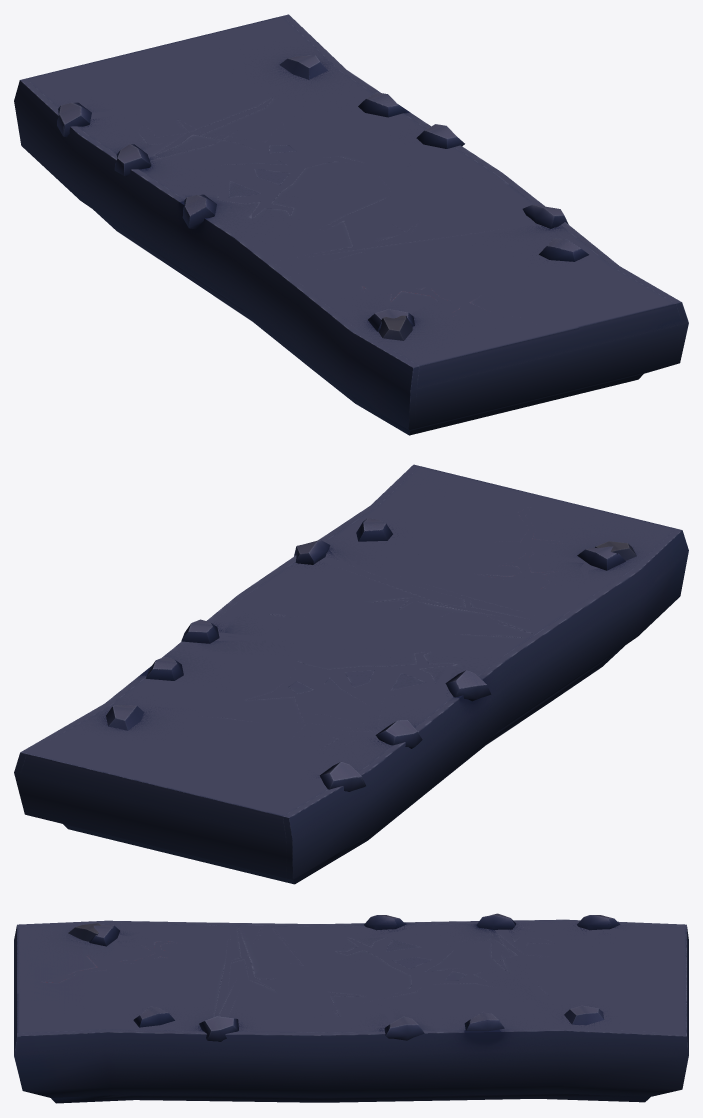
Rendered from Fix_Magma_Stage_Floor.fbx.
3 views of the same model, one above another, from view 1: azimuth 30°, elevation 25°; view 2: azimuth 150°, elevation 25°; view 3: azimuth 270°, elevation 25° (orthographic). The views are drawn at different scales.
Visible parts, largest first — view 1: Magma_Stage_Road_1, Magma_Stage_Road_3, Magma_Stage_Road_2, Magma_Stage_Road_5, Magma_Stage_Road_4; view 2: Magma_Stage_Road_3, Magma_Stage_Road_1, Magma_Stage_Road_2, Magma_Stage_Road_5, Magma_Stage_Road_4; view 3: Magma_Stage_Road_3, Magma_Stage_Road_1, Magma_Stage_Road_2, Magma_Stage_Road_5, Magma_Stage_Road_4.
Part boxes in pixels (<box>): Magma_Stage_Road_1: <box>26,16,682,431</box>; Magma_Stage_Road_3: <box>14,14,688,435</box>; Magma_Stage_Road_2: <box>29,16,674,365</box>; Magma_Stage_Road_5: <box>90,75,556,280</box>; Magma_Stage_Road_4: <box>28,16,612,326</box>; Magma_Stage_Road_3: <box>14,464,688,884</box>; Magma_Stage_Road_1: <box>20,466,675,882</box>; Magma_Stage_Road_2: <box>35,466,673,816</box>; Magma_Stage_Road_5: <box>111,549,555,766</box>; Magma_Stage_Road_4: <box>79,509,619,815</box>; Magma_Stage_Road_3: <box>14,915,688,1103</box>; Magma_Stage_Road_1: <box>14,913,688,1051</box>; Magma_Stage_Road_2: <box>17,915,686,1040</box>; Magma_Stage_Road_5: <box>196,924,565,1032</box>; Magma_Stage_Road_4: <box>107,915,685,1032</box>.
Size of the model in its own units: 255 by 86.16 by 603.
Materials: 3 (3 with a texture image).
